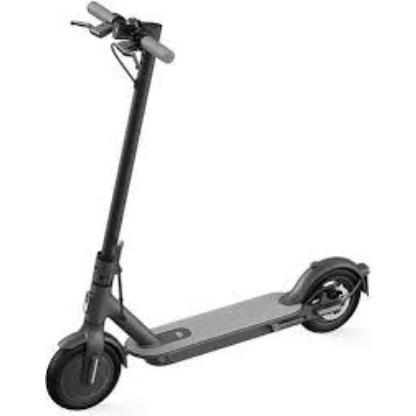bike: (45, 1, 374, 413)
